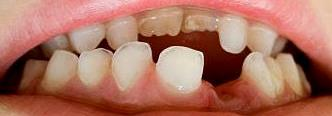Hypodontia: (201, 56, 251, 95)
